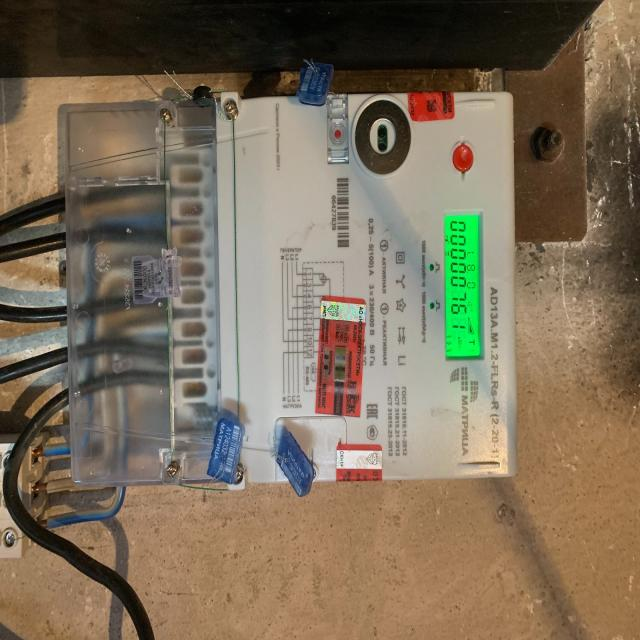Display: (442, 210, 482, 362)
meter_matrica: (123, 96, 516, 501)
meter_number: (322, 172, 362, 256)
seal_elso: (128, 243, 188, 310)
seal_imp: (316, 293, 371, 421)
